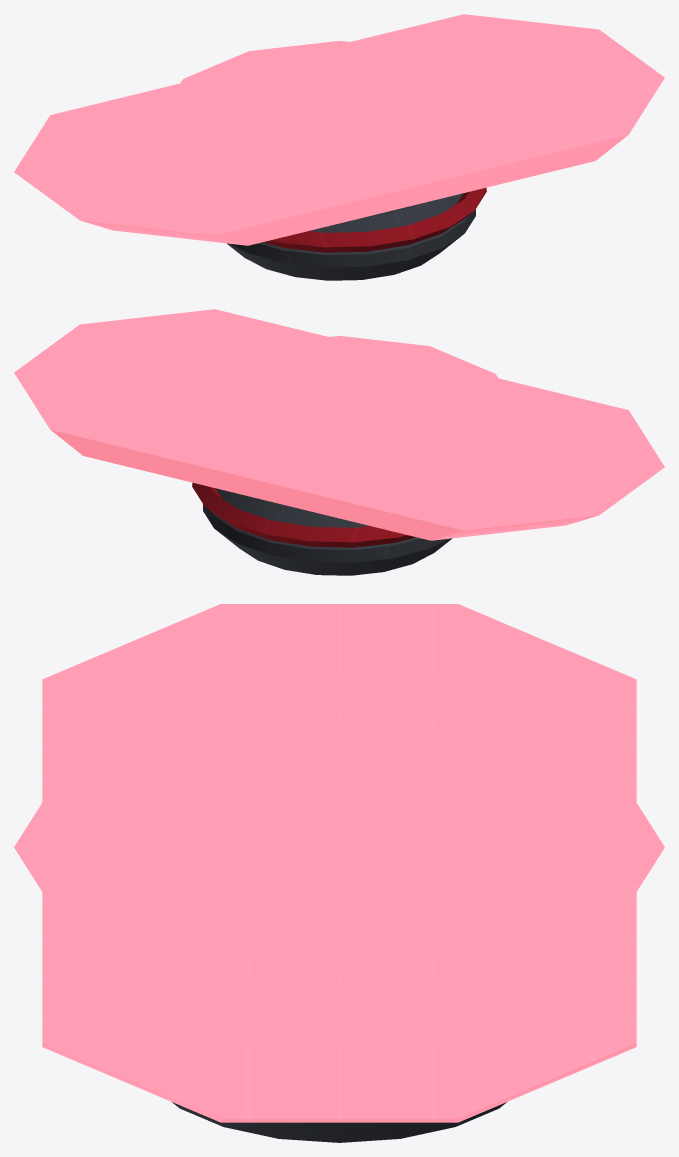
Rendered from gear_decoy.glb.
3 renders of one model, top to bottom at view 1: azimuth 30°, elevation 25°; view 2: azimuth 150°, elevation 25°; view 3: azimuth 270°, elevation 25°, orthographic. The views are drawn at different scales.
Visible parts, largest first — view 1: Decoy_Holo_Body, Decoy_Holo_Head, Decoy_Puck, Decoy_Rim; view 2: Decoy_Holo_Body, Decoy_Holo_Head, Decoy_Puck, Decoy_Rim; view 3: Decoy_Holo_Body, Decoy_Holo_Head, Decoy_Puck.
Part boxes in pixels (bbox=[...]): Decoy_Holo_Body: bbox=[14, 14, 664, 245]; Decoy_Holo_Head: bbox=[159, 41, 519, 193]; Decoy_Puck: bbox=[226, 193, 475, 280]; Decoy_Rim: bbox=[263, 188, 486, 252]; Decoy_Holo_Body: bbox=[14, 309, 664, 540]; Decoy_Holo_Head: bbox=[159, 336, 519, 488]; Decoy_Puck: bbox=[203, 488, 452, 575]; Decoy_Rim: bbox=[192, 483, 415, 547]; Decoy_Holo_Body: bbox=[42, 604, 636, 1122]; Decoy_Holo_Head: bbox=[14, 709, 664, 984]; Decoy_Puck: bbox=[172, 1102, 506, 1142].
Bounding box in the file's own units: 0.2461 × 0.0474 × 0.1315.
3 materials, 3 textured.
